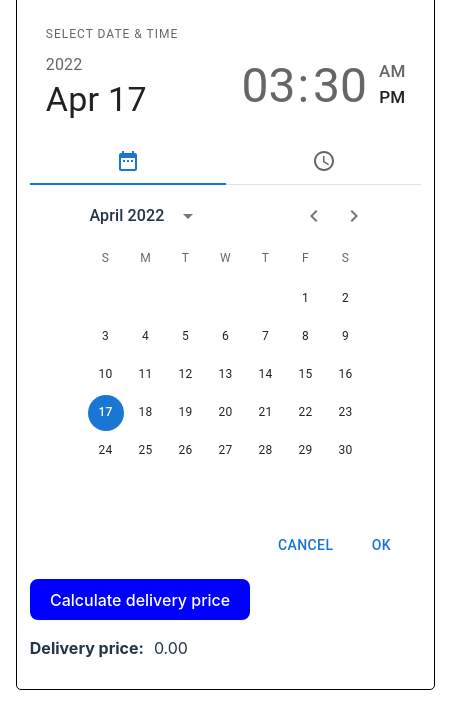
Test: Renders main page correctly › Clicking calculate button should return cart surcharge (10€) by default
(page scrolled)
Step 1. Click the button "Calculate delivery price" → (140, 600), box [30,579,250,620]
(page scrolled)
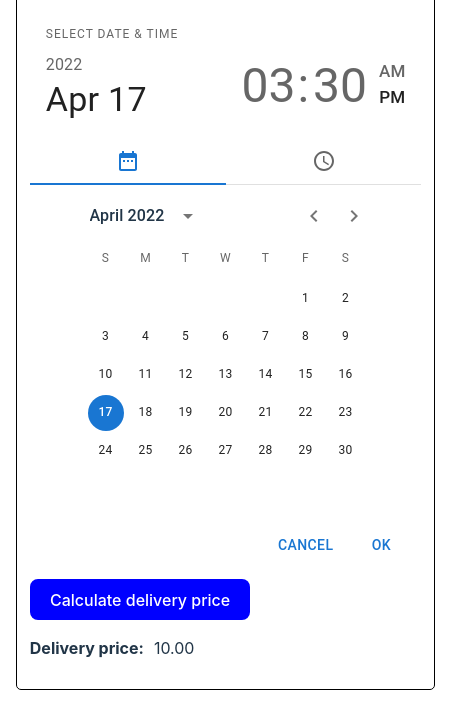
Check: the text "0.00" reads "10.00", box [154,638,194,658]
